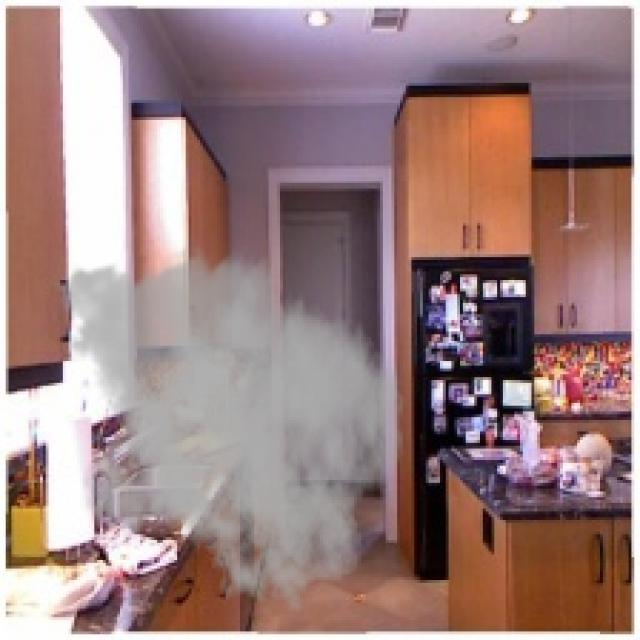smoke: (46, 243, 406, 614)
